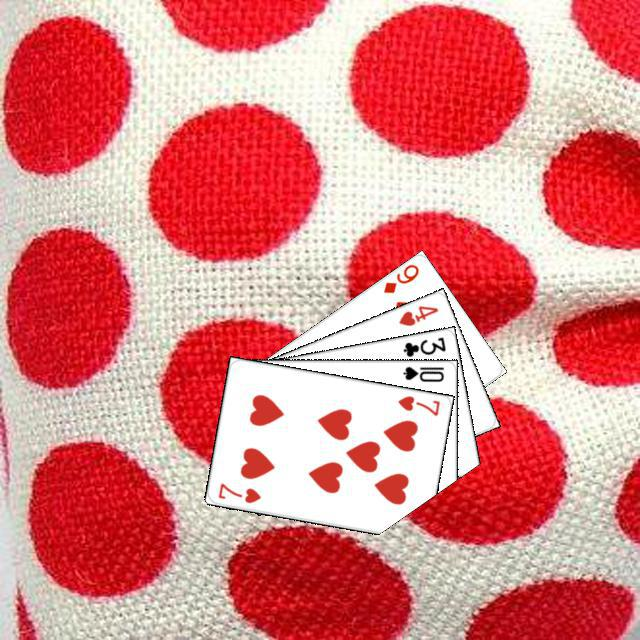10s: (398, 361, 445, 384)
3c: (398, 332, 447, 359)
4h: (394, 301, 440, 328)
7h: (393, 391, 442, 418), (213, 478, 262, 505)
9d: (378, 259, 421, 295)
